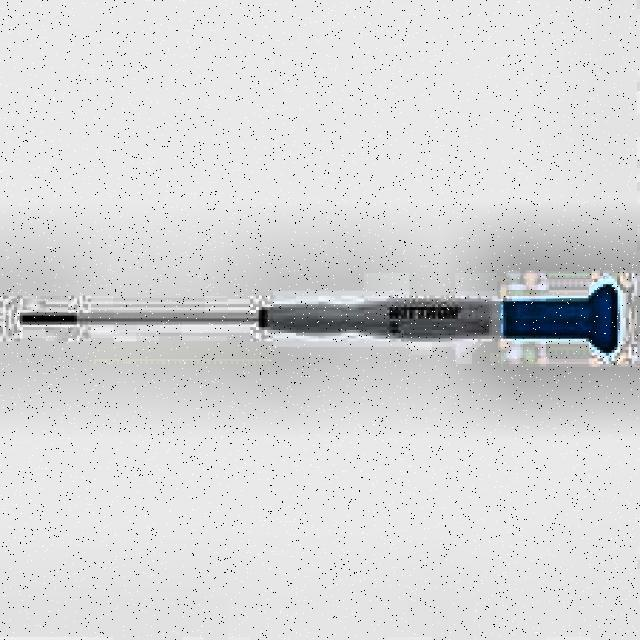screwdriver: (23, 286, 617, 354)
